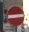No entry: (5, 5, 24, 27)
